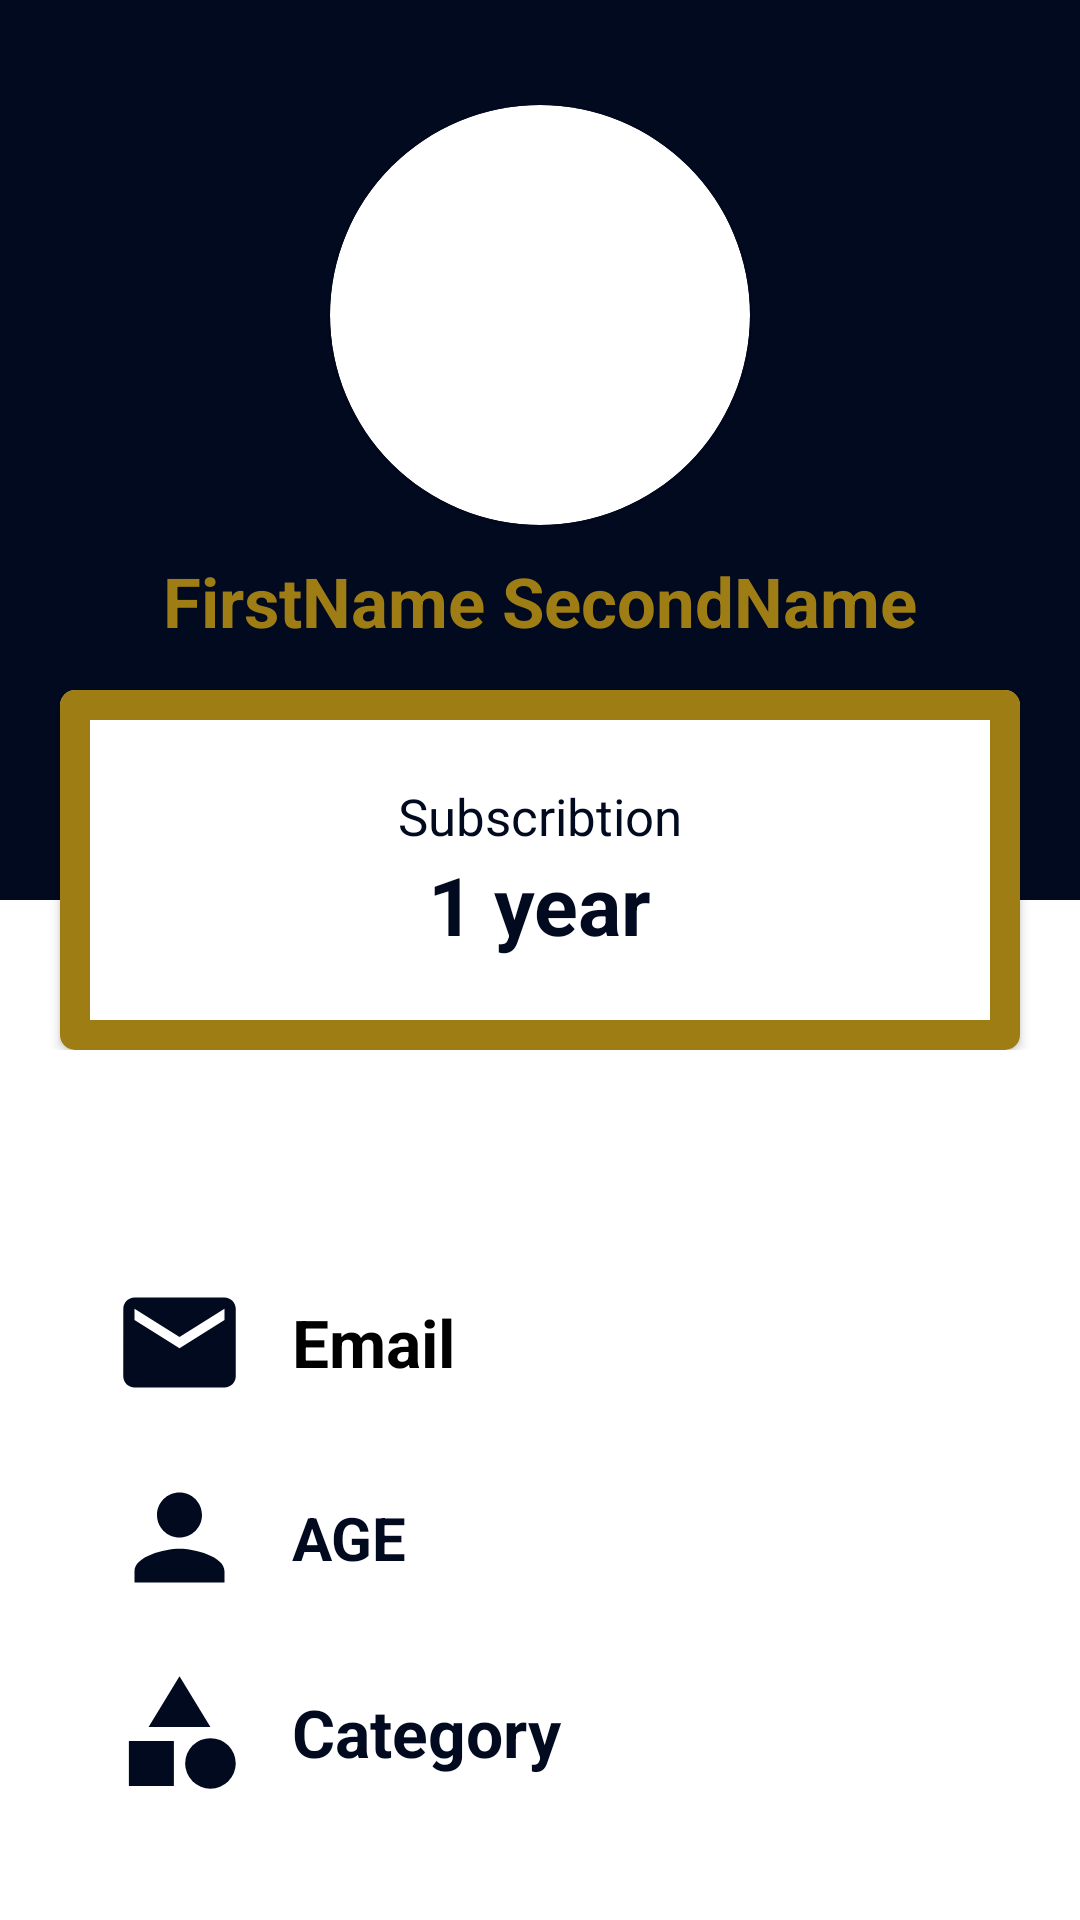

Locate icon controls on the screen. Image size 1080x1920, boxes as bbox=(x1, y1, x2, y2).
person: bbox=(134, 1492, 225, 1583)
